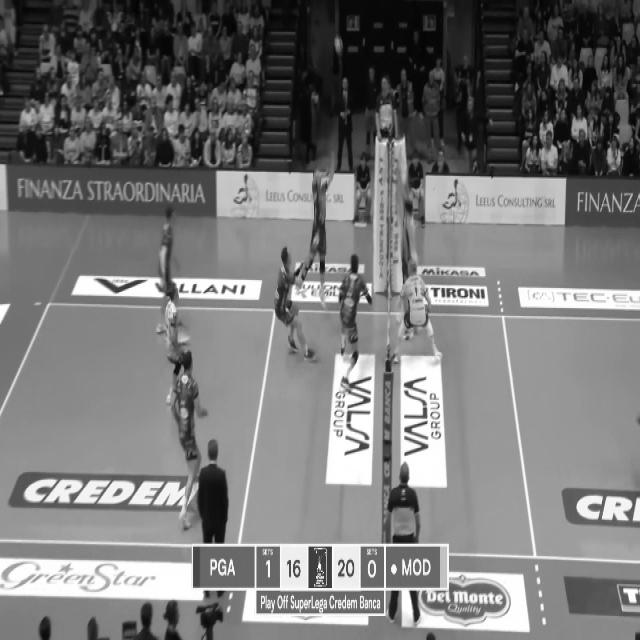volleyball court: (0, 301, 639, 559)
